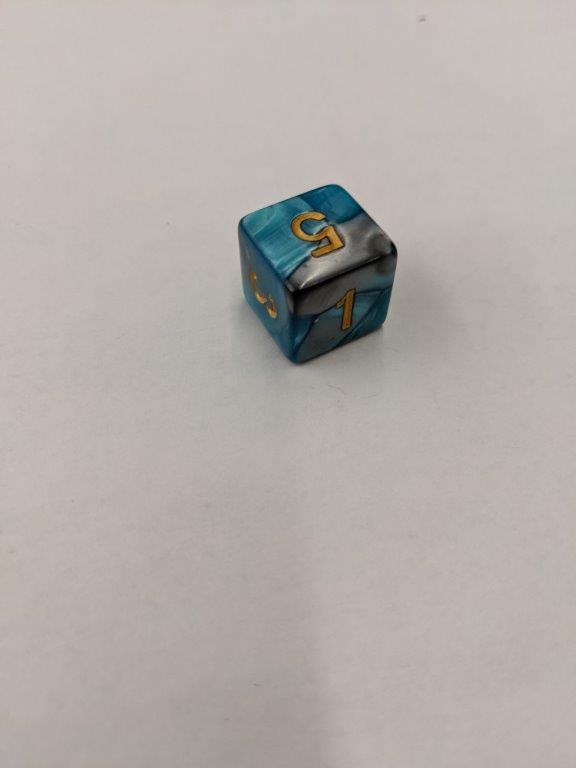d6-5: (240, 183, 399, 363)
